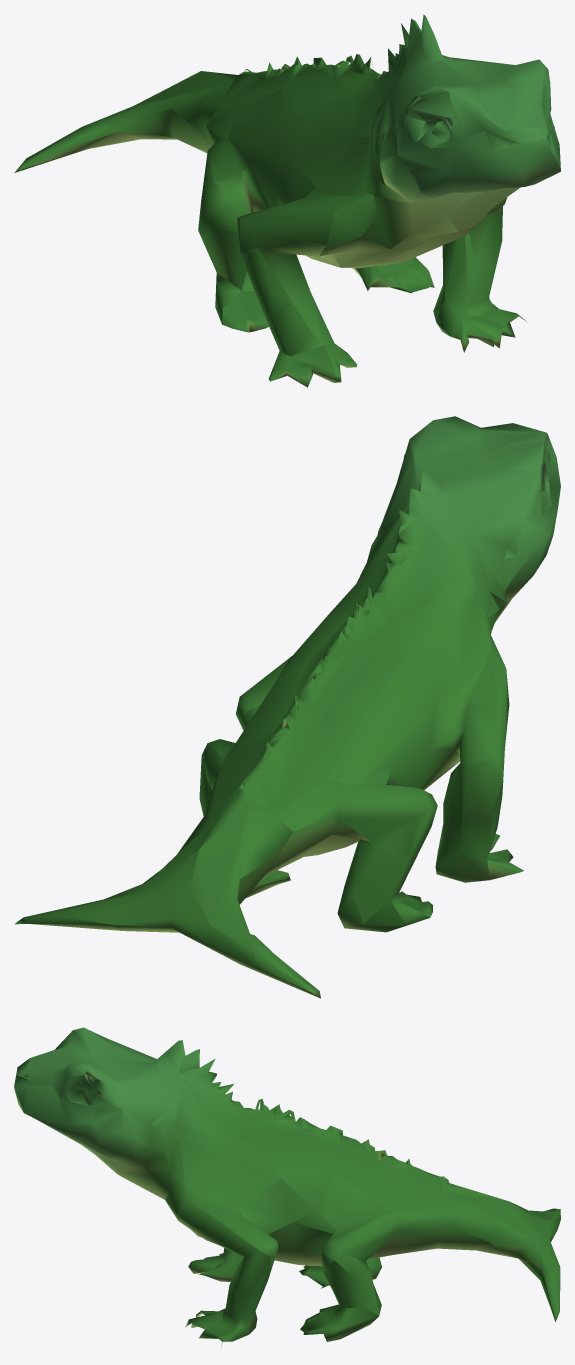
Rendered from iguana.glb.
3 views of the same model, one above another, from view 1: azimuth 30°, elevation 25°; view 2: azimuth 150°, elevation 25°; view 3: azimuth 270°, elevation 25° (orthographic). The views are drawn at different scales.
Visible parts, largest first — view 1: Iguana; view 2: Iguana; view 3: Iguana.
Boxes of the visible parts, <box> form: Iguana: <box>14,14,560,387</box>; Iguana: <box>14,416,560,998</box>; Iguana: <box>14,1027,560,1347</box>.
Bounding box in the file's own units: 0.4791 × 0.5405 × 1.
